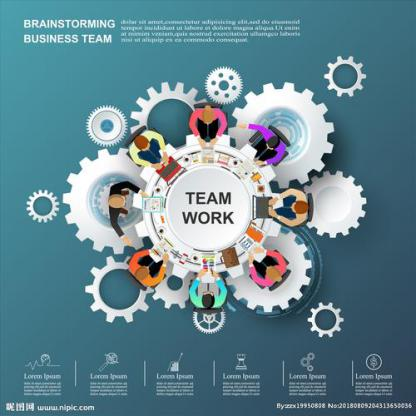FOD: (225, 79, 337, 191), (298, 169, 368, 240), (306, 301, 345, 340), (26, 185, 62, 227)
